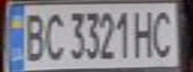1: (115, 7, 133, 60)
2: (100, 8, 118, 60)
3: (66, 8, 87, 61), (81, 8, 100, 61)
B: (18, 9, 48, 63)
C: (148, 6, 181, 58), (42, 8, 66, 62)
H: (133, 7, 160, 58)
